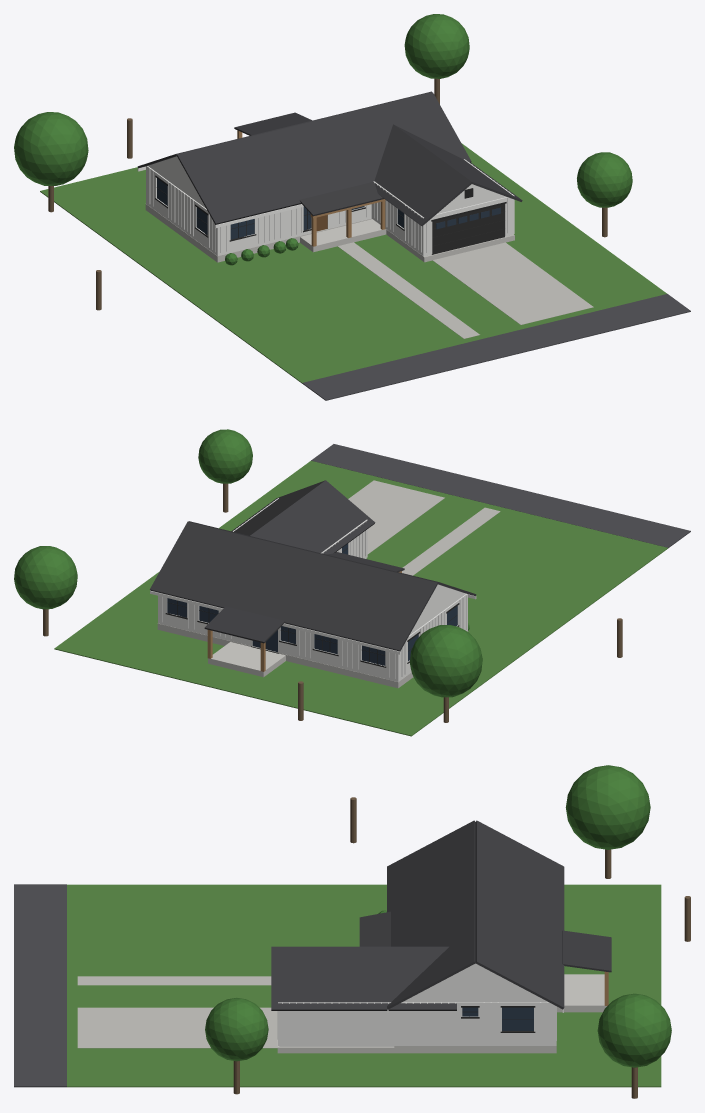
The model's file is plan-003-outside.glb.
The picture shows the model from 3 angles, top to bottom: view 1: azimuth 30°, elevation 25°; view 2: azimuth 150°, elevation 25°; view 3: azimuth 270°, elevation 25°; orthographic projection. The views are drawn at different scales.
Parts seen in each view (by area): view 1: ground, roofF, street, drive, groofL, Icosphere.007, Icosphere.008, Icosphere.006, f.015, walk, porchroof, porch (+8 smaller); view 2: ground, roofB, street, groofL, Icosphere.007, drive, Icosphere.008, Icosphere.006, patioroof, patio, walk, slab (+6 smaller); view 3: ground, roofB, roofF, street, groofR, drive, Icosphere.007, Icosphere.008, w.057, Icosphere.006, gable.001, w.043 (+9 smaller).
Boxes of the visible parts, x1=… form: ground: x1=40, y1=143, x2=666, y2=383; roofF: x1=177, y1=92, x2=471, y2=224; street: x1=302, y1=294, x2=690, y2=400; drive: x1=433, y1=242, x2=593, y2=324; groofL: x1=374, y1=124, x2=471, y2=226; Icosphere.007: x1=14, y1=112, x2=88, y2=185; Icosphere.008: x1=404, y1=14, x2=469, y2=78; Icosphere.006: x1=577, y1=152, x2=632, y2=207; f.015: x1=432, y1=204, x2=504, y2=254; walk: x1=338, y1=242, x2=479, y2=338; porchroof: x1=299, y1=181, x2=383, y2=216; porch: x1=300, y1=219, x2=386, y2=252; ground: x1=54, y1=461, x2=667, y2=736; roofB: x1=150, y1=521, x2=437, y2=651; street: x1=311, y1=444, x2=690, y2=548; groofL: x1=250, y1=480, x2=375, y2=554; Icosphere.007: x1=410, y1=625, x2=482, y2=697; drive: x1=348, y1=480, x2=444, y2=554; Icosphere.008: x1=14, y1=546, x2=77, y2=609; Icosphere.006: x1=198, y1=429, x2=252, y2=483; patioroof: x1=204, y1=606, x2=284, y2=643; patio: x1=208, y1=642, x2=285, y2=677; walk: x1=402, y1=507, x2=500, y2=575; slab: x1=157, y1=623, x2=468, y2=688; ground: x1=67, y1=884, x2=661, y2=1087; roofB: x1=475, y1=820, x2=564, y2=1009; roofF: x1=387, y1=820, x2=475, y2=1009; street: x1=14, y1=884, x2=66, y2=1087; groofR: x1=271, y1=946, x2=456, y2=1010; drive: x1=77, y1=1007, x2=277, y2=1048; Icosphere.007: x1=565, y1=765, x2=650, y2=849; Icosphere.008: x1=597, y1=993, x2=671, y2=1067; w.057: x1=278, y1=1002, x2=397, y2=1045; Icosphere.006: x1=205, y1=997, x2=268, y2=1061; gable.001: x1=402, y1=963, x2=548, y2=1002; w.043: x1=394, y1=1002, x2=462, y2=1045.
Bounding box in the file's own units: 122 × 23 × 128.
